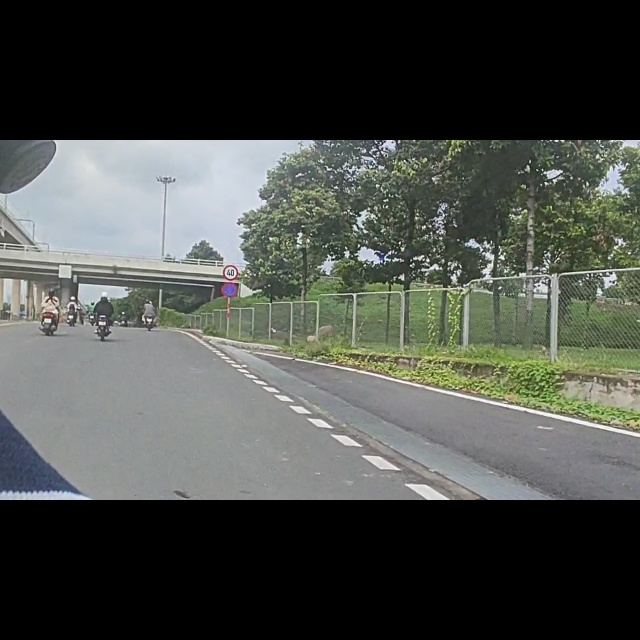bien_cam: (220, 252, 239, 282), (223, 222, 239, 249)
